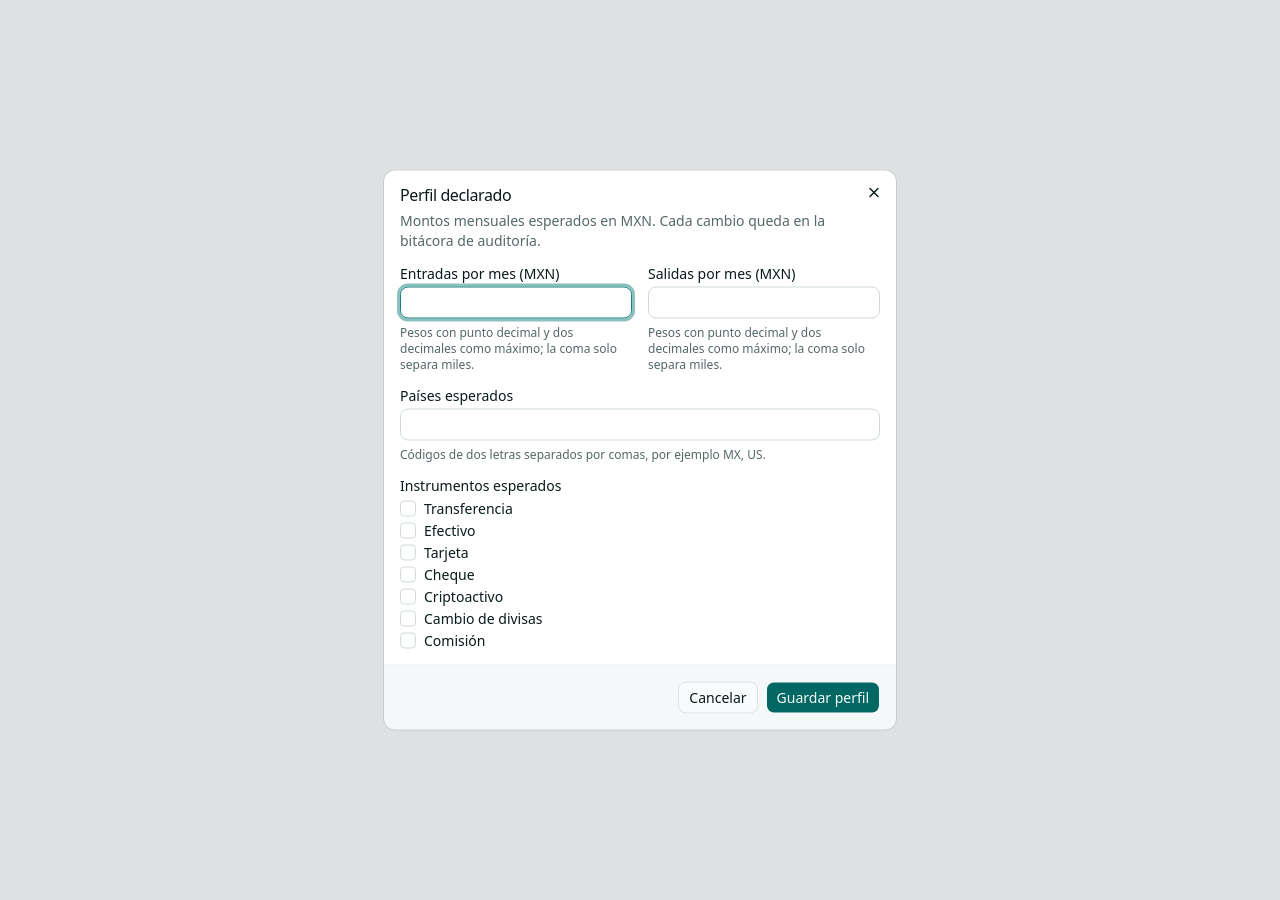
Test: DeclaredProfileDialog › shows a server refusal under the field it names and keeps the dialog open
Type "100" into the field labelled "Entradas por mes (MXN)" at (516, 302), box [400,286,632,318]
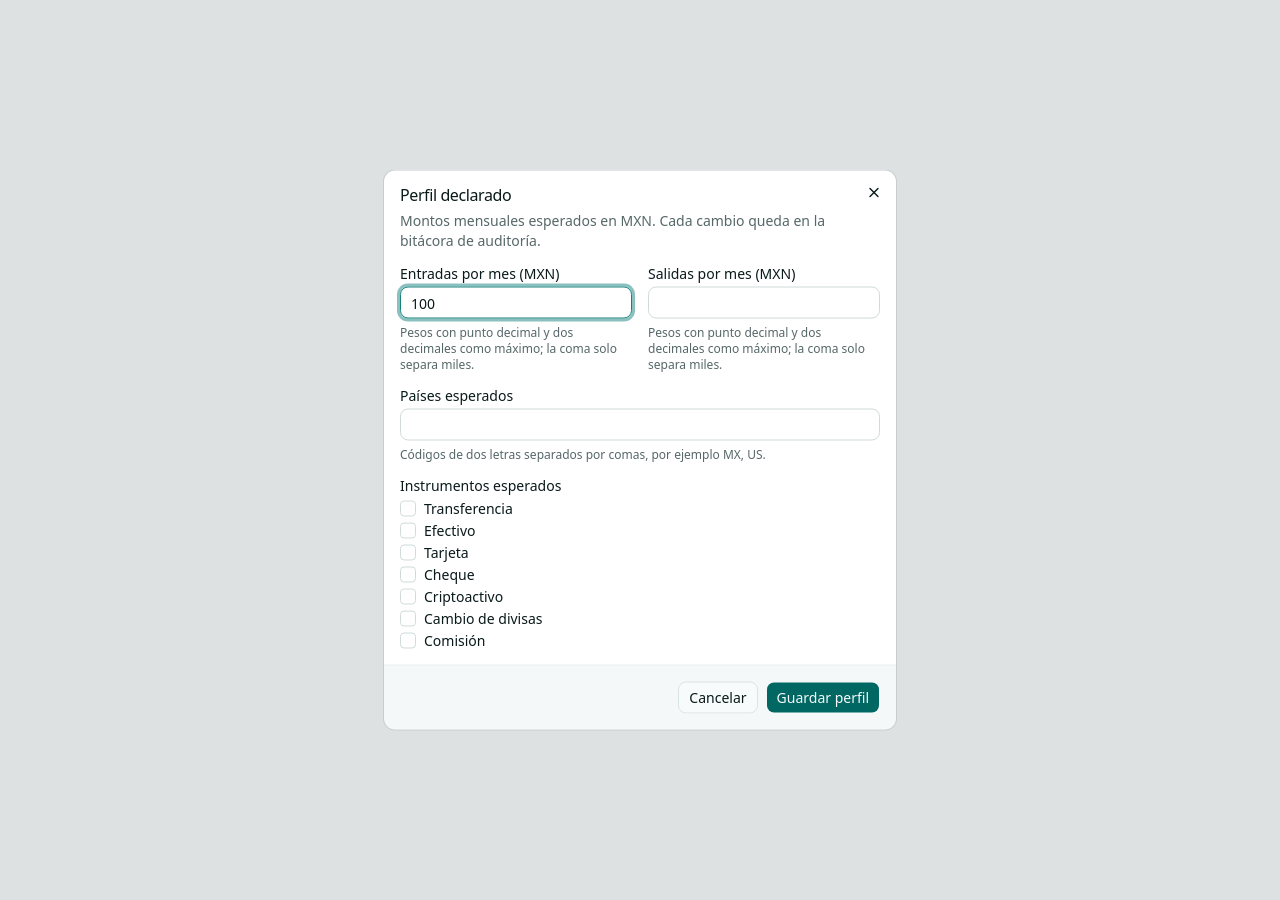
Type "100" into the field labelled "Salidas por mes (MXN)" at (764, 302), box [648,286,880,318]
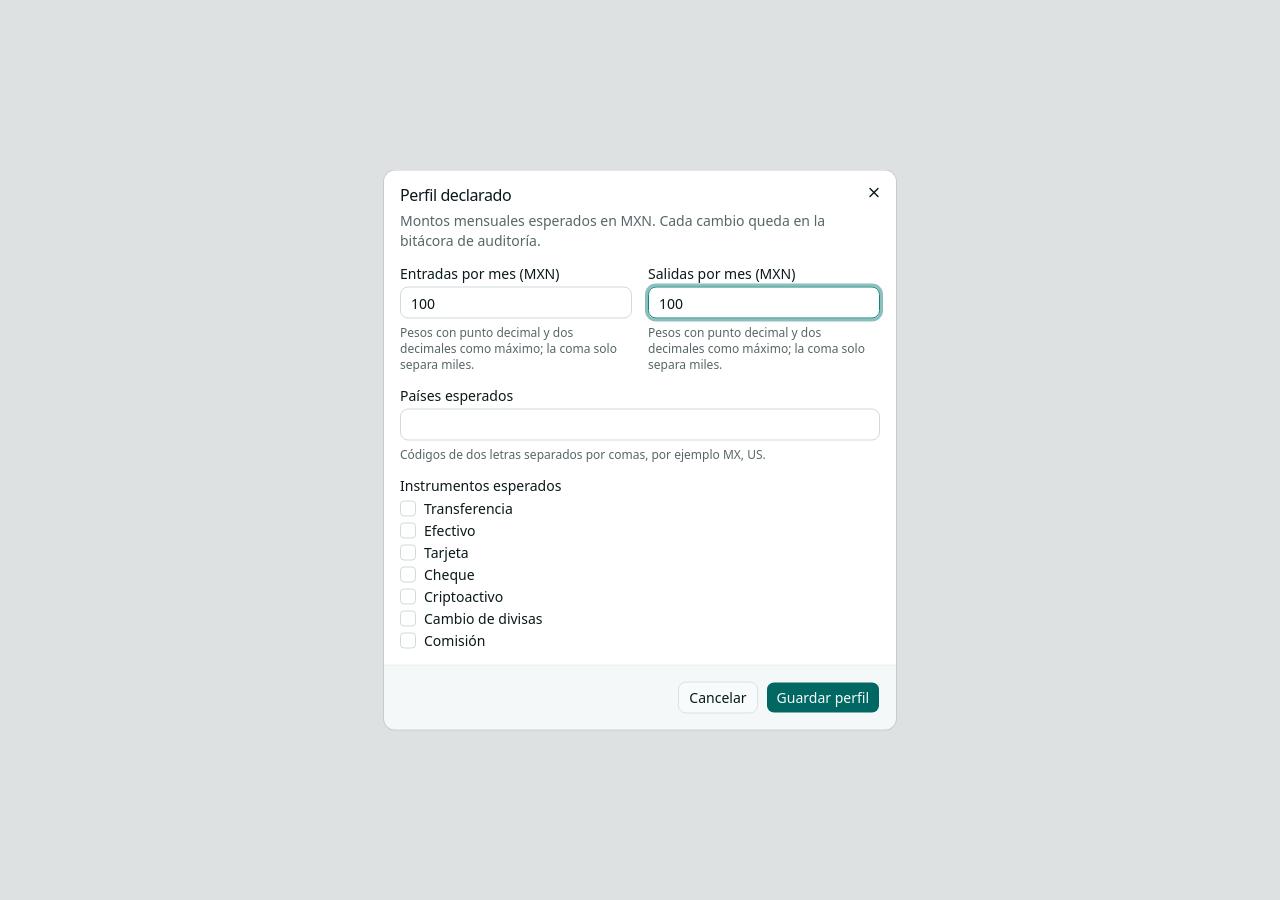
Type "XX" into the field labelled "Países esperados" at (640, 424), box [400,408,880,440]
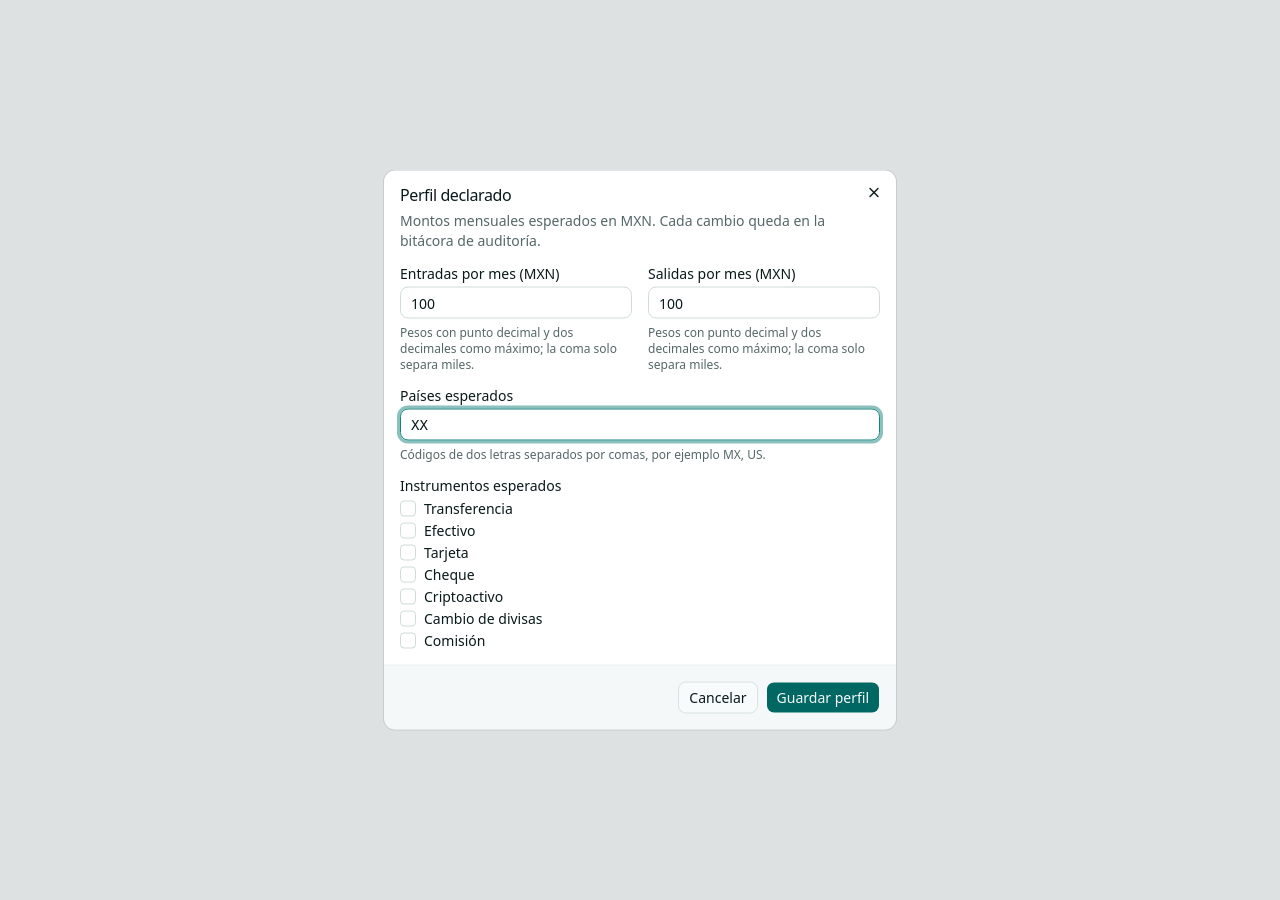
Click the button "Guardar perfil" at (823, 698), box [766,682,880,714]
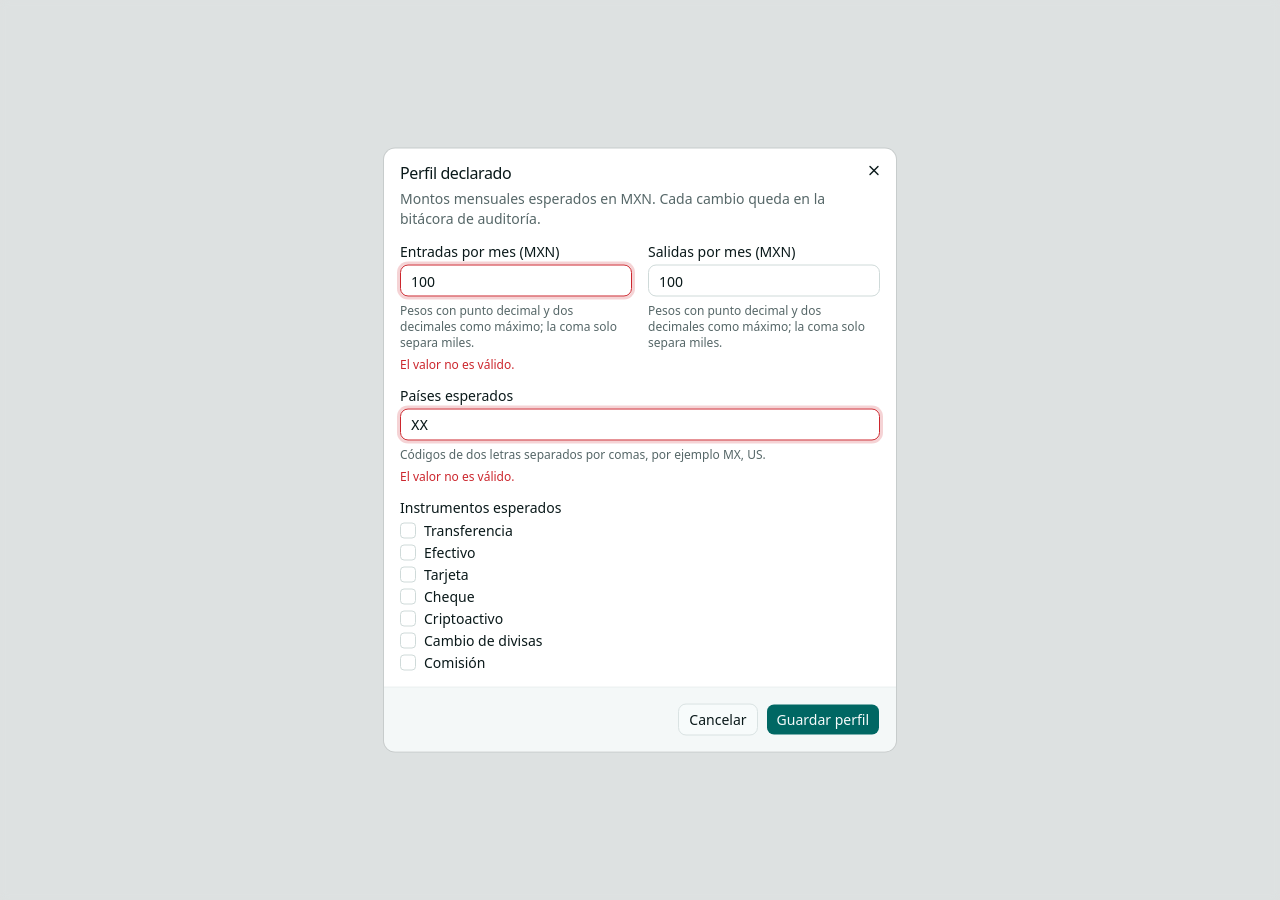
Expected: the dialog is shown, [384,148,896,752]
Result: the message "El valor no es válido." below "Entradas por mes (MXN)" is shown at [400,356,514,372]
